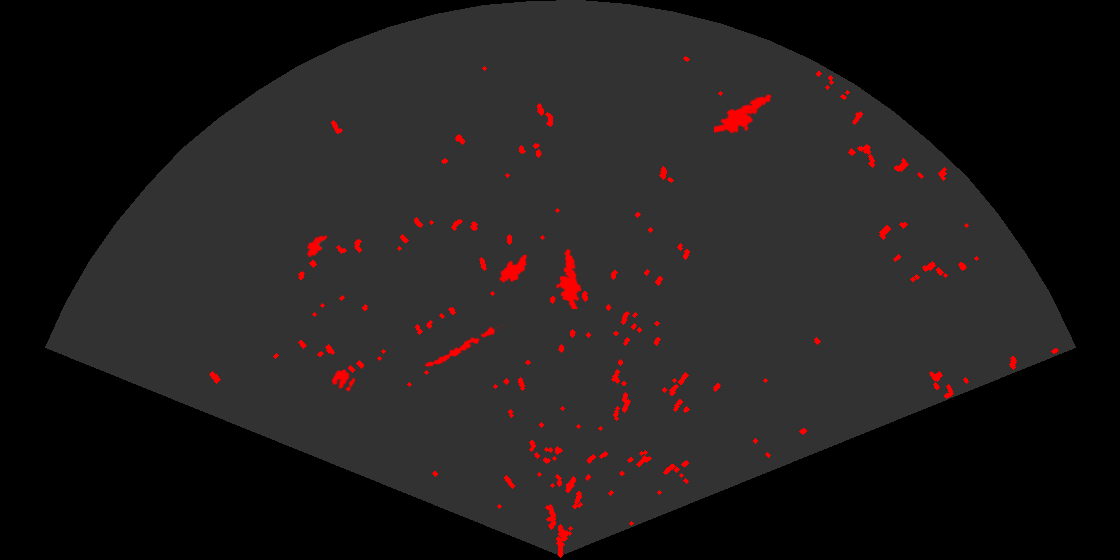AUV: (498, 253, 529, 284), (305, 229, 329, 259)
ball: (330, 368, 357, 393)
chain: (423, 322, 504, 369)
frogman: (714, 93, 774, 135), (554, 247, 583, 309)
